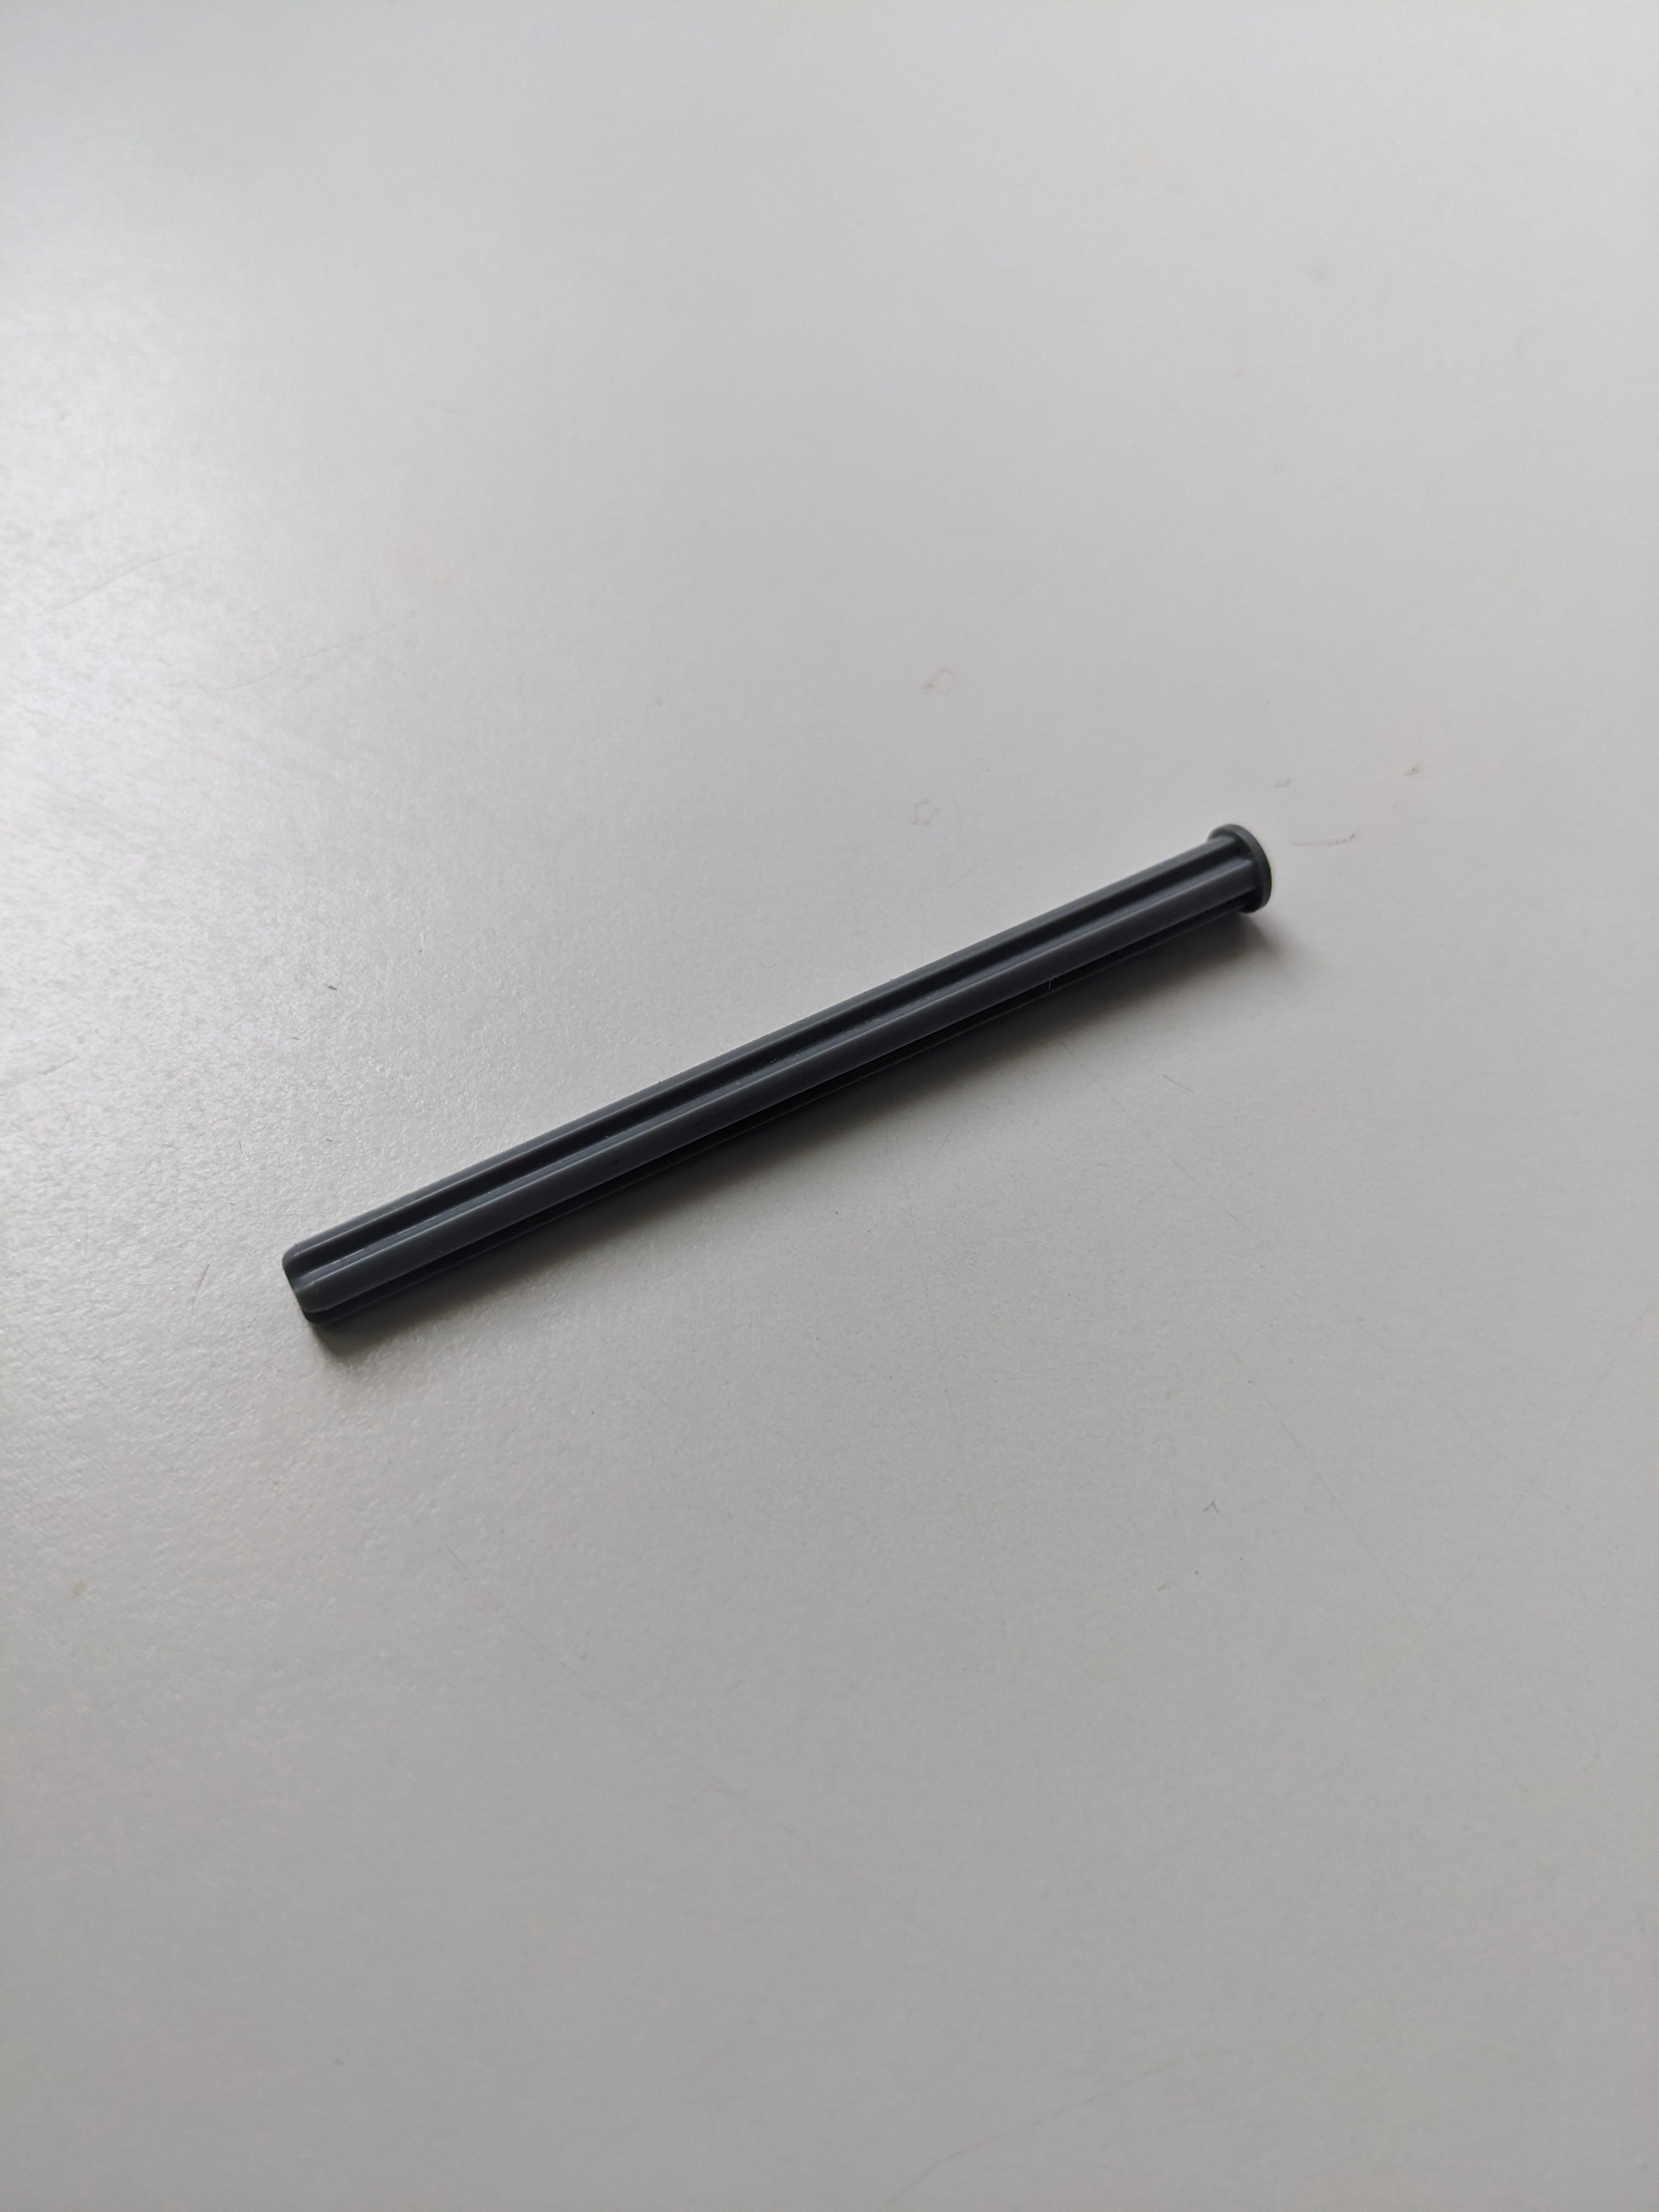Grau_lang: (270, 796, 1281, 1367)
